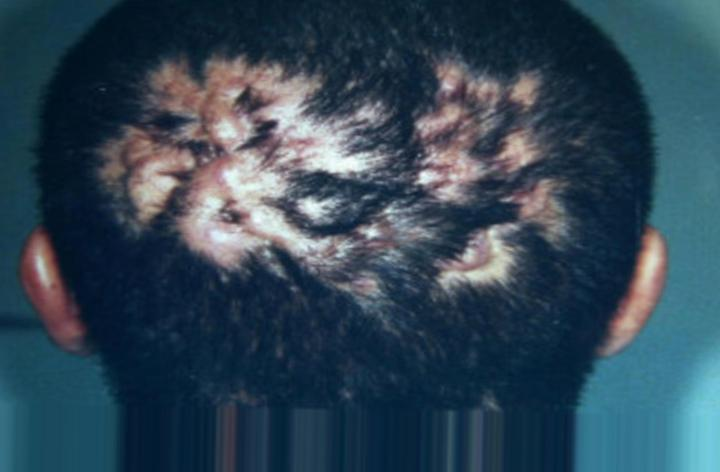Folliculitis: (121, 44, 564, 293)
